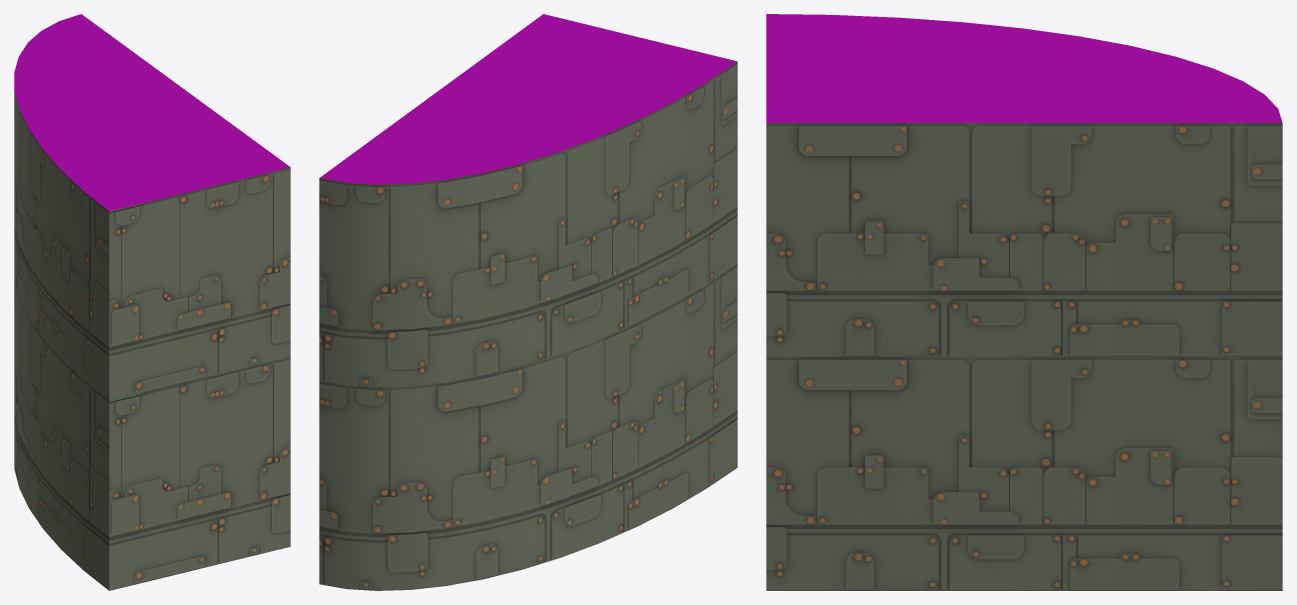
File: Block_Curved_Long_Top_Fill.fbx
3 renders of one model, left to right at view 1: azimuth 30°, elevation 25°; view 2: azimuth 150°, elevation 25°; view 3: azimuth 270°, elevation 25°, orthographic. The views are drawn at different scales.
Visible parts, largest first — view 1: Block_Curved_Long_Top_Fill, Block_Curved_Long_Fill; view 2: Block_Curved_Long_Top_Fill, Block_Curved_Long_Fill; view 3: Block_Curved_Long_Top_Fill, Block_Curved_Long_Fill.
Part boxes in pixels (x1=…): Block_Curved_Long_Top_Fill: x1=14, y1=14, x2=290, y2=400; Block_Curved_Long_Fill: x1=14, y1=280, x2=290, y2=590; Block_Curved_Long_Top_Fill: x1=319, y1=14, x2=737, y2=387; Block_Curved_Long_Fill: x1=319, y1=264, x2=737, y2=590; Block_Curved_Long_Top_Fill: x1=766, y1=14, x2=1282, y2=356; Block_Curved_Long_Fill: x1=766, y1=357, x2=1282, y2=590.
Bounding box in the file's own units: 100 × 200 × 200.
